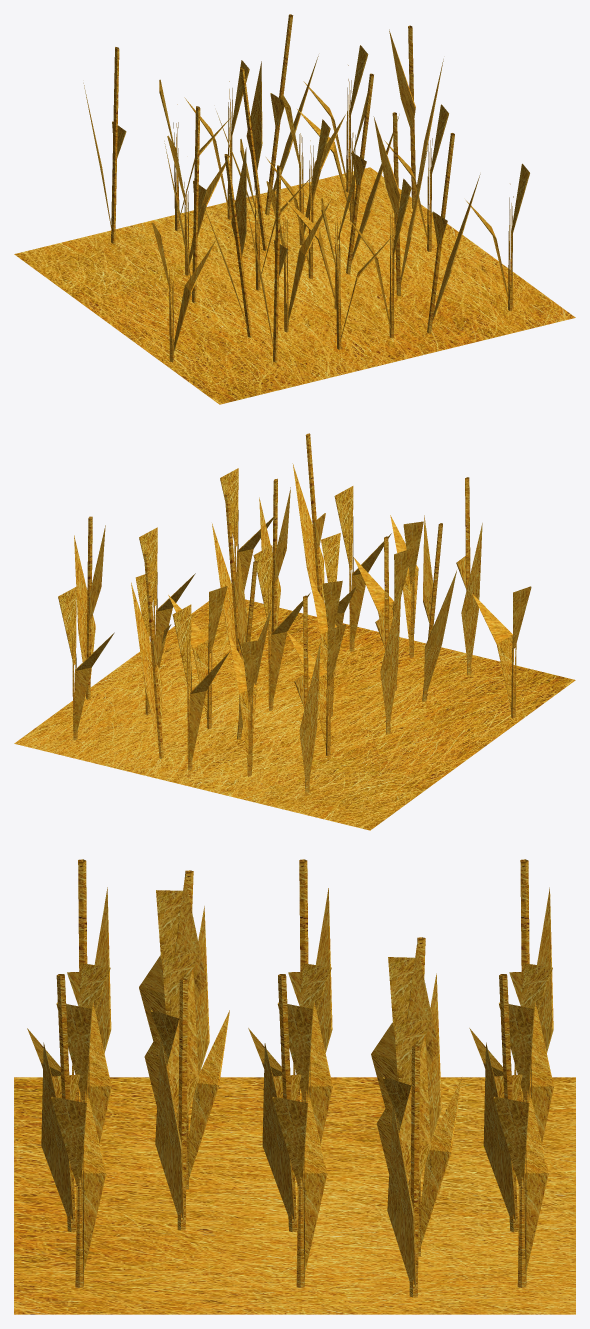
The model's file is RyeShort.fbx.
The picture shows the model from 3 angles, top to bottom: view 1: azimuth 30°, elevation 25°; view 2: azimuth 150°, elevation 25°; view 3: azimuth 270°, elevation 25°; orthographic projection. The views are drawn at different scales.
Parts seen in each view (by area): view 1: Plane.001; view 2: Plane.001; view 3: Plane.001.
Boxes of the visible parts, bbox=[...] form: Plane.001: bbox=[14, 14, 575, 404]; Plane.001: bbox=[14, 433, 575, 830]; Plane.001: bbox=[14, 859, 575, 1314].
Bounding box in the file's own units: 208 × 107 × 200.
Materials: 1 (1 with a texture image).
